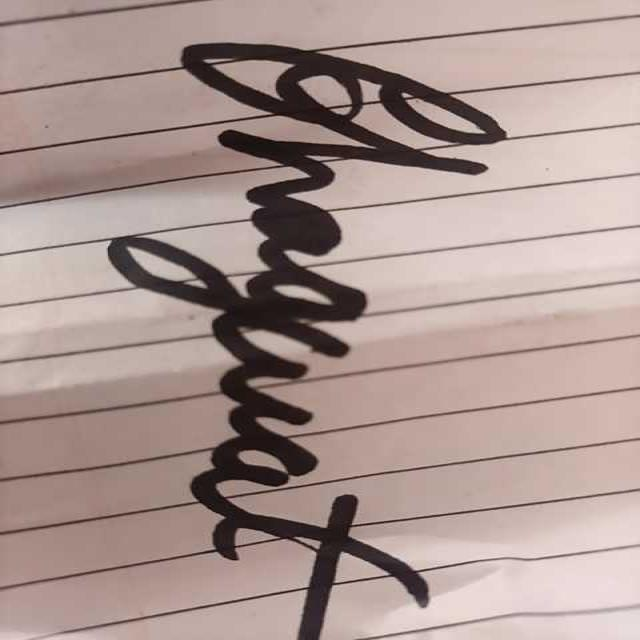signature: (155, 19, 520, 637)
